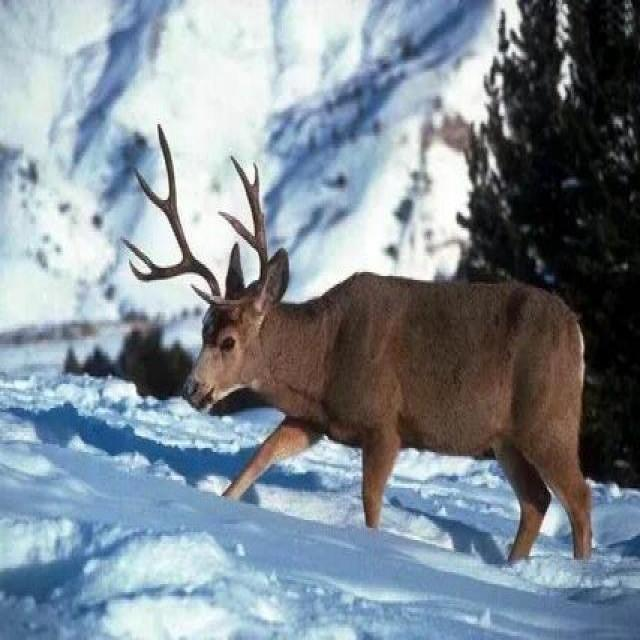deer: (136, 99, 636, 608)
